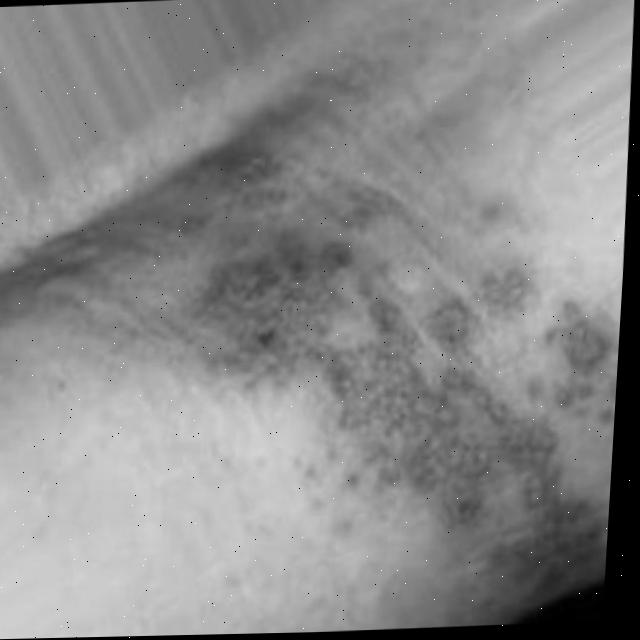Shingles: (188, 225, 626, 609)
